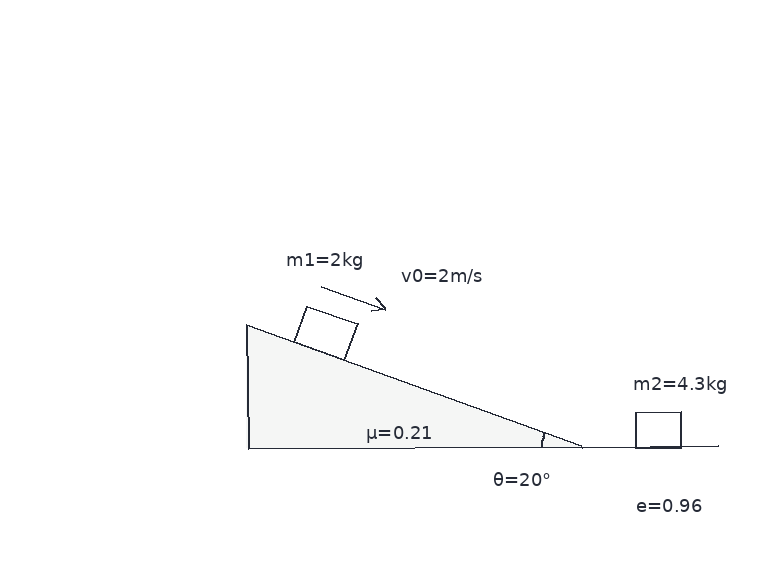block: (291, 303, 359, 362), (633, 411, 683, 449)
ramp: (245, 323, 584, 449)
